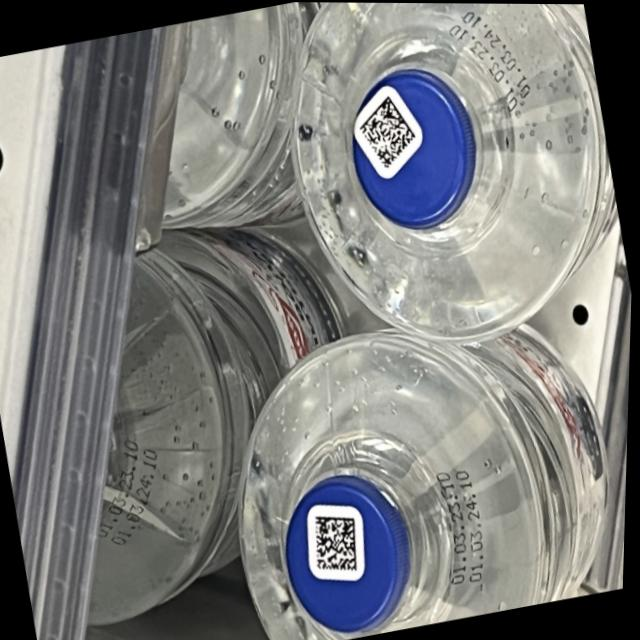datamatrix: (355, 92, 423, 172), (312, 509, 368, 577)
